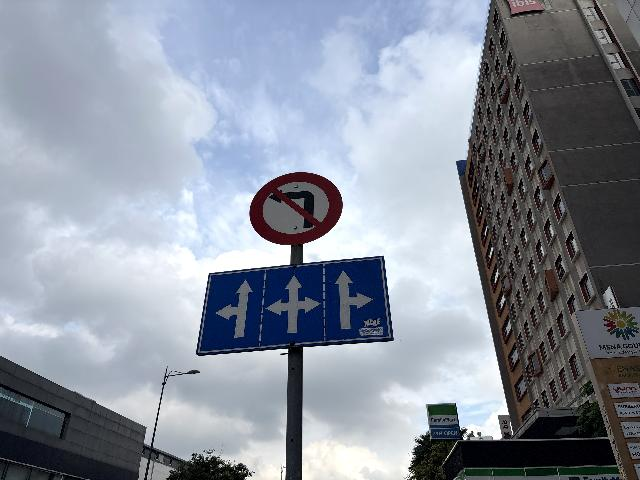cam-re-trai: (247, 171, 344, 244)
